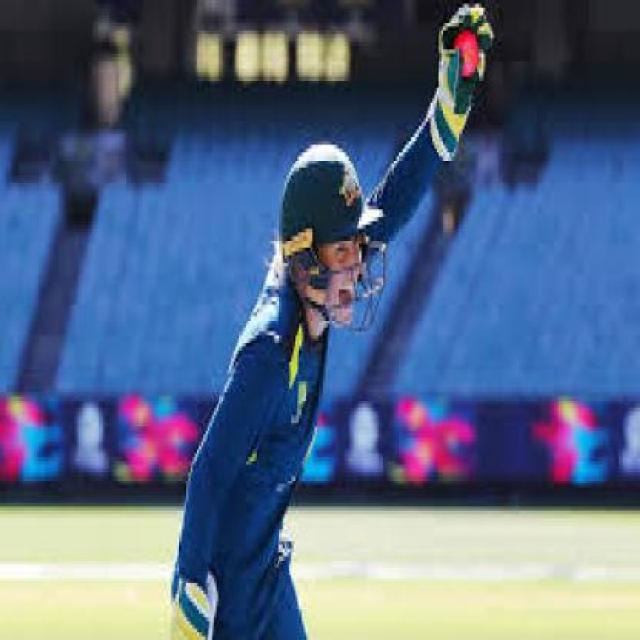ball: (431, 8, 525, 92)
